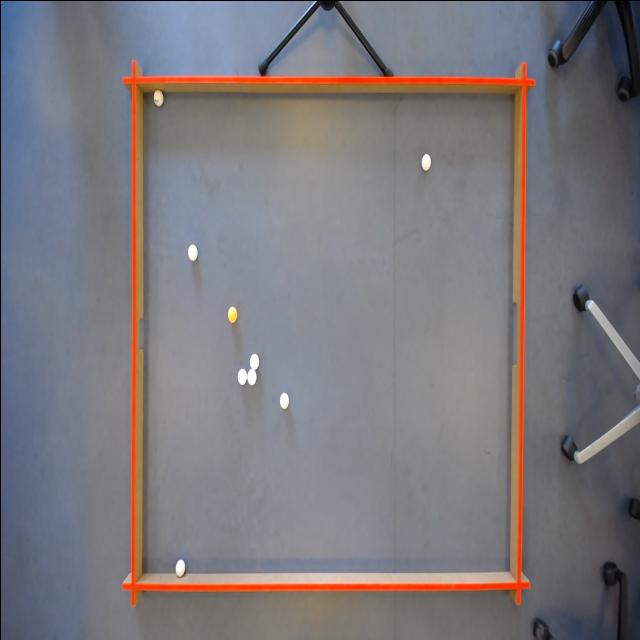orange_ball: (225, 301, 238, 325)
white_ball: (173, 554, 186, 576), (152, 88, 164, 110), (419, 150, 432, 170), (276, 389, 288, 410), (186, 241, 198, 261), (248, 350, 260, 370), (235, 364, 246, 384), (246, 366, 256, 386)
